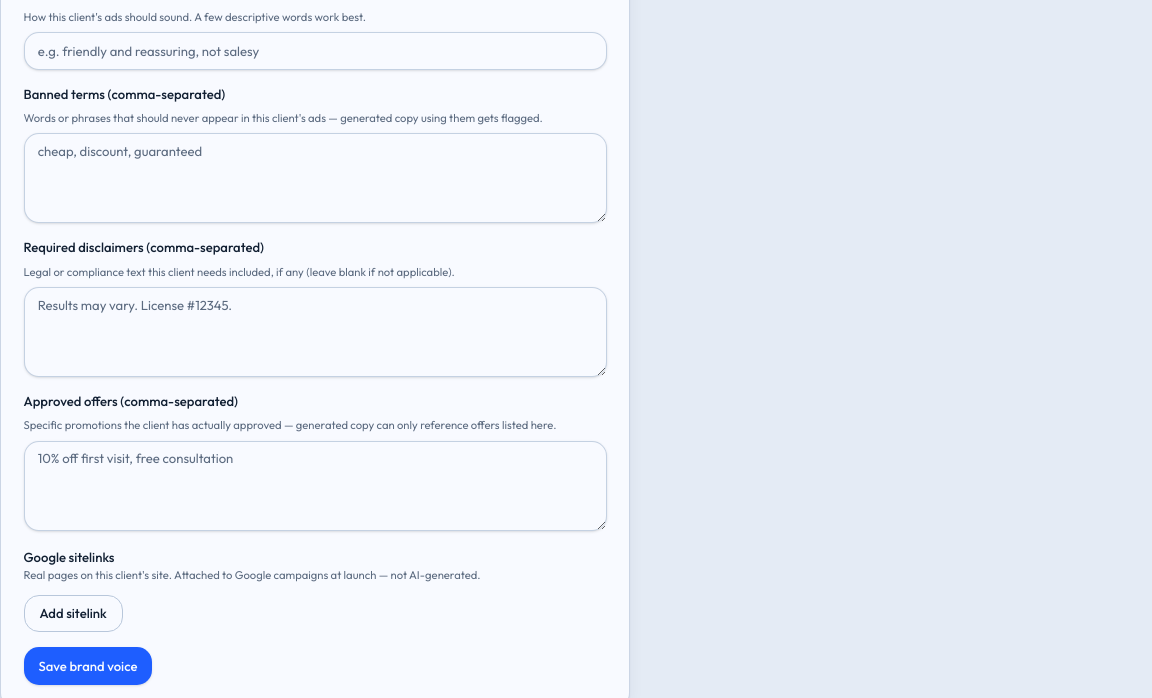
Scenario: ClientDetailPage › shows a success message after saving brand voice
(page scrolled)
Expected: the text "brand voice saved" is not shown
Step 1. Click the button "Save brand voice" → coordinates (88, 666), box top-left (24, 647), bottom-right (152, 685)
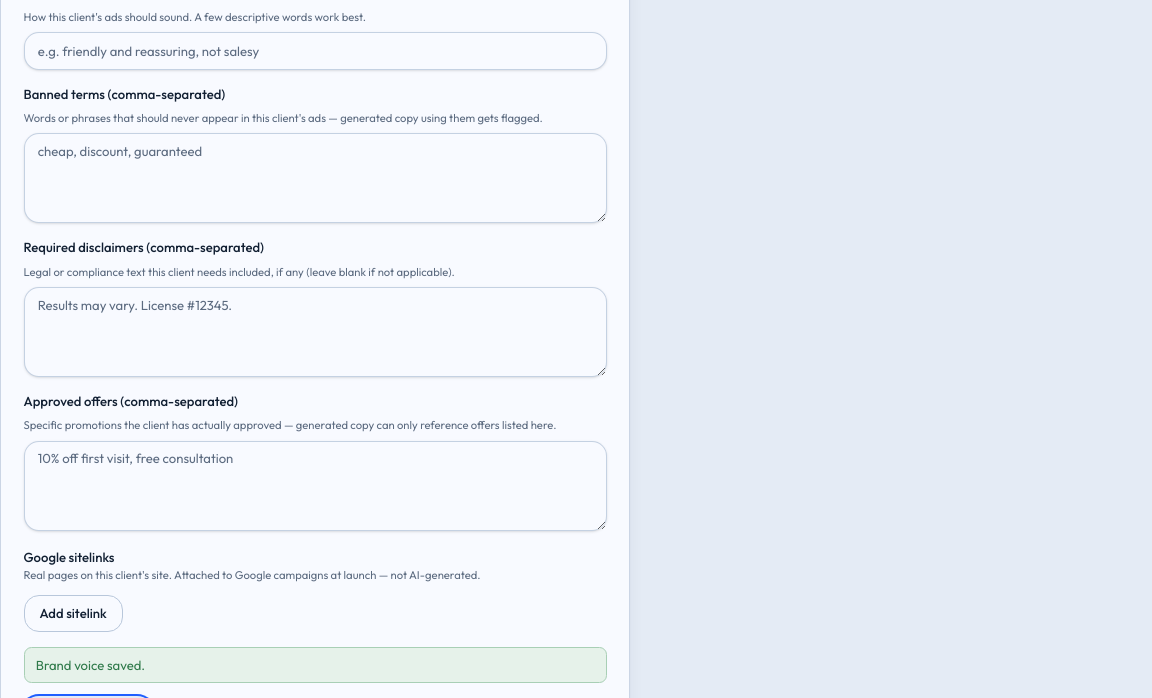
Now the text "Brand voice saved." is shown, box top-left (24, 647), bottom-right (606, 683)
